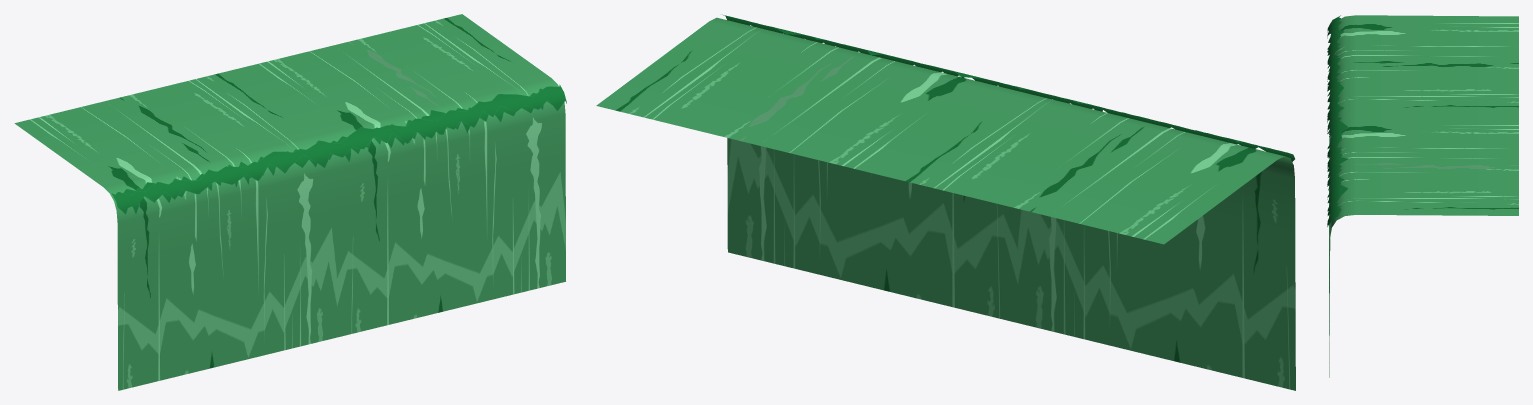
The model's file is gxdfbg.fbx.
3 renders of one model, left to right at view 1: azimuth 30°, elevation 25°; view 2: azimuth 150°, elevation 25°; view 3: azimuth 270°, elevation 25°, orthographic. The views are drawn at different scales.
Visible parts, largest first — view 1: Box033, BordeCascada2, BordeCascada003; view 2: Box033, BordeCascada2; view 3: Box033, BordeCascada2, BordeCascada003.
Boxes of the visible parts, x1,y1,x2,y2 form: Box033: [14, 14, 565, 390]; BordeCascada2: [113, 86, 565, 214]; BordeCascada003: [112, 84, 566, 213]; Box033: [596, 17, 1295, 390]; BordeCascada2: [723, 15, 1294, 161]; Box033: [1329, 15, 1518, 377]; BordeCascada2: [1327, 17, 1348, 226]; BordeCascada003: [1327, 15, 1348, 225].
Size of the model in its own units: 1278 by 530 by 522.
